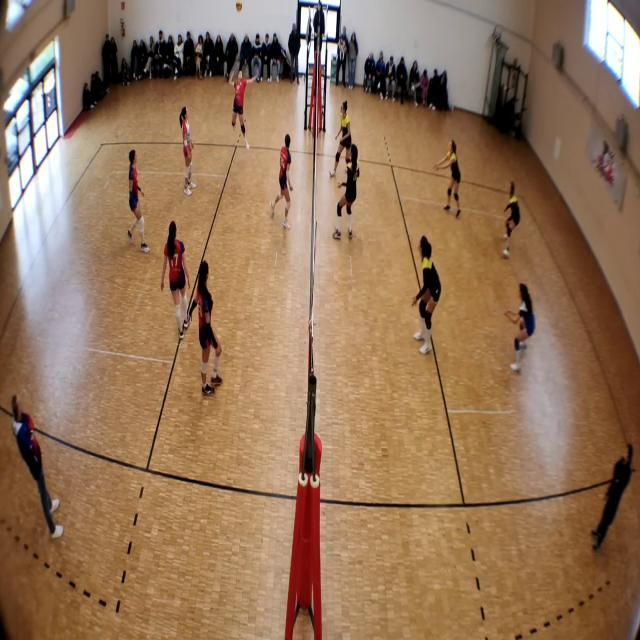volleyball: (235, 0, 242, 11)
